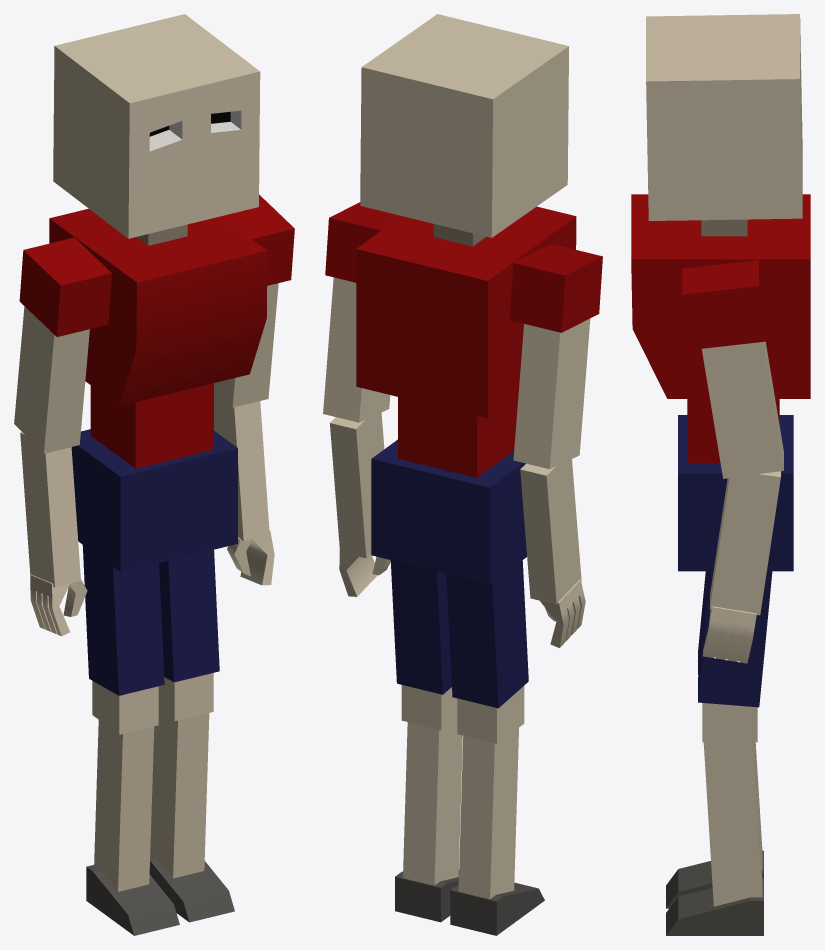
File: RedPersonModel.fbx
3 views of the same model, side by side, from view 1: azimuth 30°, elevation 25°; view 2: azimuth 150°, elevation 25°; view 3: azimuth 270°, elevation 25° (orthographic). The views are drawn at different scales.
Visible parts, largest first — view 1: pCube2, pCube3, pCube6, pasted__pCube10, pasted__pasted__pCube11, pasted__pasted__pCube10, pCube14, pCube4, pasted__pCube5, pCube16, pasted__pCube8, pCube18 (+9 smaller); view 2: pCube2, pCube3, pCube6, pasted__pCube10, pCube14, pasted__pasted__pCube11, pasted__pasted__pCube10, pCube4, pCube16, pasted__pCube8, pasted__pCube5, pCube18 (+9 smaller); view 3: pCube2, pCube3, pCube19, pasted__pasted__pCube10, pCube6, pCube18, pasted__pCube9, pasted__pCube8, pCube10, pCube25, pCube12, pCube4 (+2 smaller).
Part boxes in pixels (box(x1,y1,x2,y2)): pCube2: box(53, 14, 260, 238); pCube3: box(49, 208, 267, 405); pCube6: box(71, 429, 237, 572); pasted__pCube10: box(82, 545, 164, 695); pasted__pasted__pCube11: box(94, 720, 154, 891); pasted__pasted__pCube10: box(150, 710, 209, 878); pCube14: box(14, 306, 89, 453); pCube4: box(90, 383, 213, 468); pasted__pCube5: box(19, 237, 111, 336); pCube16: box(20, 432, 80, 587); pasted__pCube8: box(159, 549, 219, 682); pCube18: box(214, 389, 269, 540); pCube2: box(360, 14, 568, 237); pCube3: box(356, 206, 576, 418); pCube6: box(371, 439, 526, 583); pasted__pCube10: box(446, 560, 528, 708); pCube14: box(513, 318, 590, 469); pasted__pasted__pCube11: box(458, 728, 518, 898); pasted__pasted__pCube10: box(403, 719, 462, 885); pCube4: box(398, 397, 518, 477); pCube16: box(520, 459, 581, 604); pasted__pCube8: box(390, 560, 451, 694); pasted__pCube5: box(509, 244, 602, 332); pCube18: box(330, 412, 384, 558); pCube2: box(646, 14, 802, 220); pCube3: box(631, 194, 810, 398); pCube19: box(701, 341, 783, 478); pasted__pasted__pCube10: box(703, 742, 762, 906); pCube6: box(678, 415, 793, 571); pCube18: box(710, 471, 780, 615); pasted__pCube9: box(682, 260, 766, 349); pasted__pCube8: box(698, 571, 772, 707); pCube10: box(666, 878, 763, 935); pCube25: box(702, 606, 756, 663); pCube12: box(702, 703, 757, 742); pCube4: box(687, 399, 779, 463).
Size of the model in its own units: 8.98 by 30.97 by 5.83.
